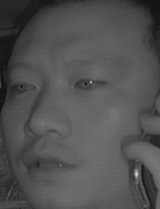eye: (71, 72, 105, 94), (10, 78, 37, 95)
mouth: (21, 144, 76, 182)
